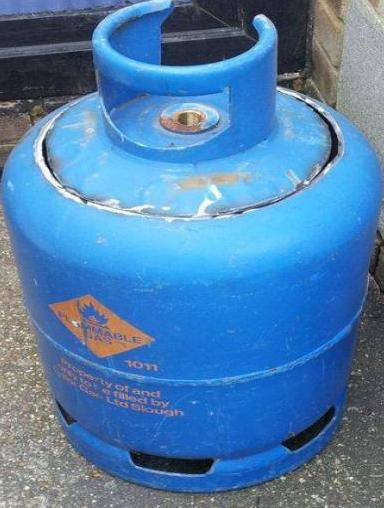cylinder: (0, 1, 384, 508)
